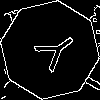Y: (25, 25, 82, 79)
